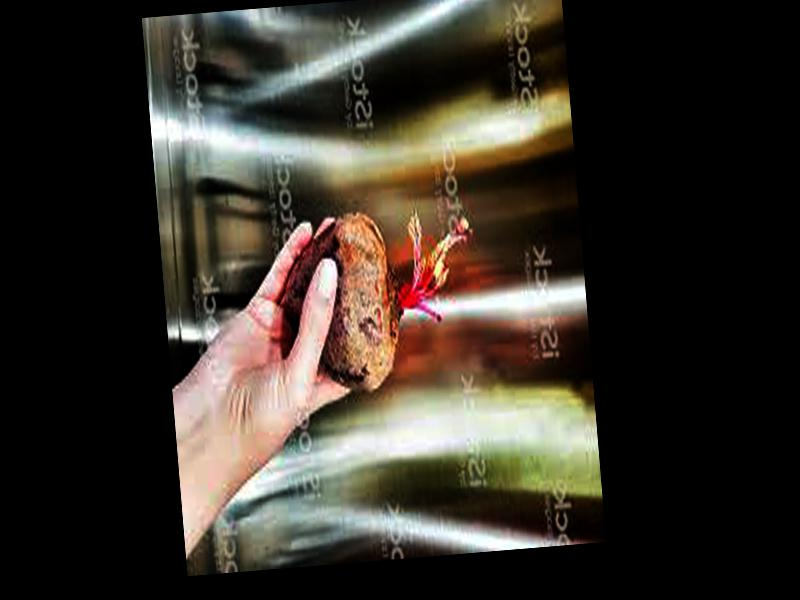Beet: (275, 203, 479, 395)
